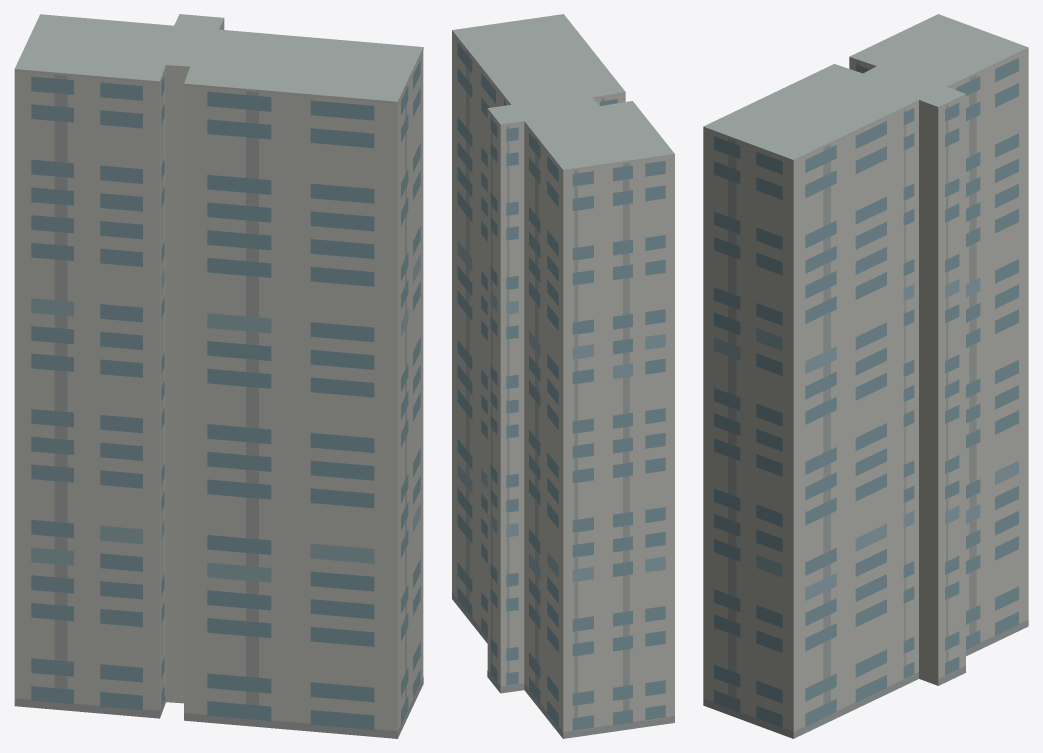
Rendered from residential-3a77041c-9752-414c-b0bc-af63ff6f9352.glb.
3 views of the same model, side by side, from view 1: azimuth 30°, elevation 25°; view 2: azimuth 150°, elevation 25°; view 3: azimuth 270°, elevation 25° (orthographic). The views are drawn at different scales.
Parts seen in each view (by area): view 1: residential-3a77041c-9752-414c-b0bc-af63ff6f9352.tmp; view 2: residential-3a77041c-9752-414c-b0bc-af63ff6f9352.tmp; view 3: residential-3a77041c-9752-414c-b0bc-af63ff6f9352.tmp.
Part boxes in pixels (bbox=[...]): residential-3a77041c-9752-414c-b0bc-af63ff6f9352.tmp: bbox=[14, 14, 423, 738]; residential-3a77041c-9752-414c-b0bc-af63ff6f9352.tmp: bbox=[452, 14, 674, 738]; residential-3a77041c-9752-414c-b0bc-af63ff6f9352.tmp: bbox=[703, 14, 1028, 738].
Bounding box in the file's own units: 35.16 × 65 × 33.13.
